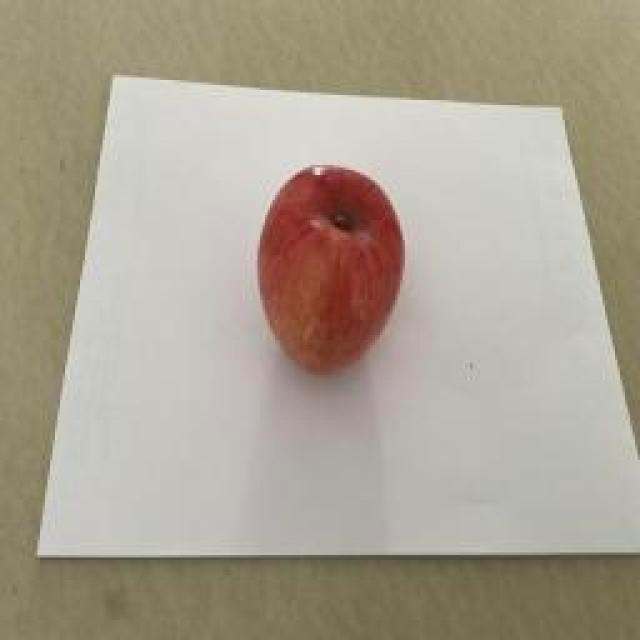apple: (258, 165, 404, 373)
